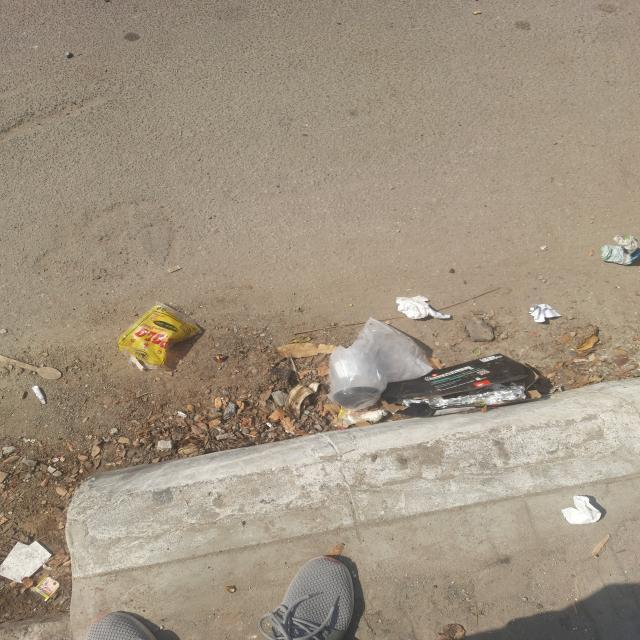Background: (0, 0, 640, 640), (5, 572, 7, 575)
Cig_bud: (167, 265, 182, 273), (473, 11, 482, 14)
Metal: (402, 382, 525, 408)
Plastic_Bag: (328, 318, 432, 410), (118, 302, 200, 371)
Plastic_wraper: (32, 576, 60, 601), (333, 409, 363, 430), (212, 354, 228, 362)
